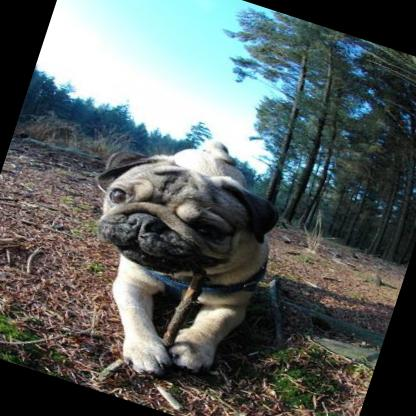pug: (43, 107, 299, 402)
